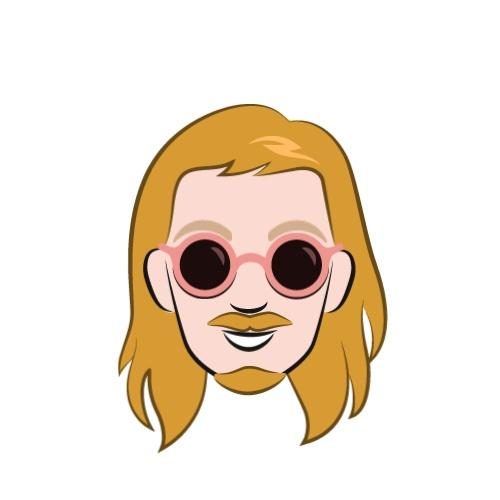NoHuman: (0, 0, 500, 497)
